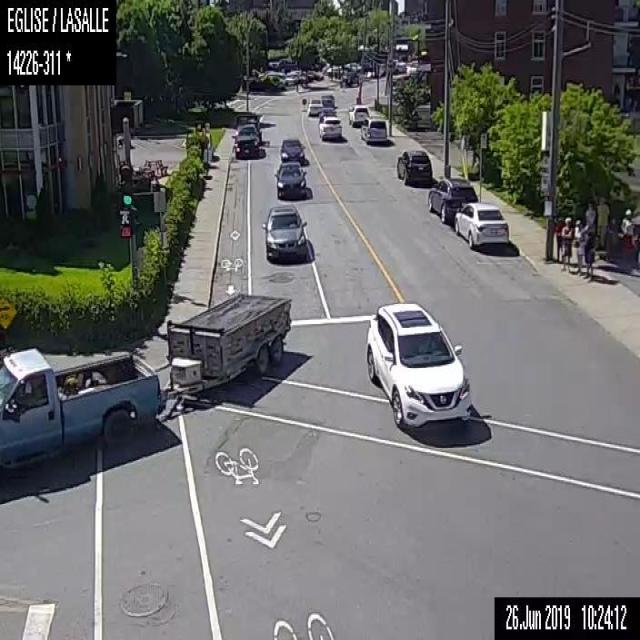pedestrian: (580, 218, 598, 284), (596, 194, 610, 262), (619, 205, 634, 266), (561, 215, 573, 273), (553, 202, 564, 264), (573, 216, 584, 277), (584, 200, 597, 235)
vehicle: (0, 290, 291, 466), (363, 301, 472, 427), (450, 200, 508, 248), (261, 200, 307, 260), (424, 175, 475, 222), (273, 158, 310, 196), (394, 147, 432, 184), (231, 125, 261, 159), (358, 114, 388, 143), (278, 136, 307, 162), (318, 114, 342, 140), (347, 102, 369, 125), (339, 68, 359, 87), (306, 95, 322, 117), (320, 90, 334, 106)
